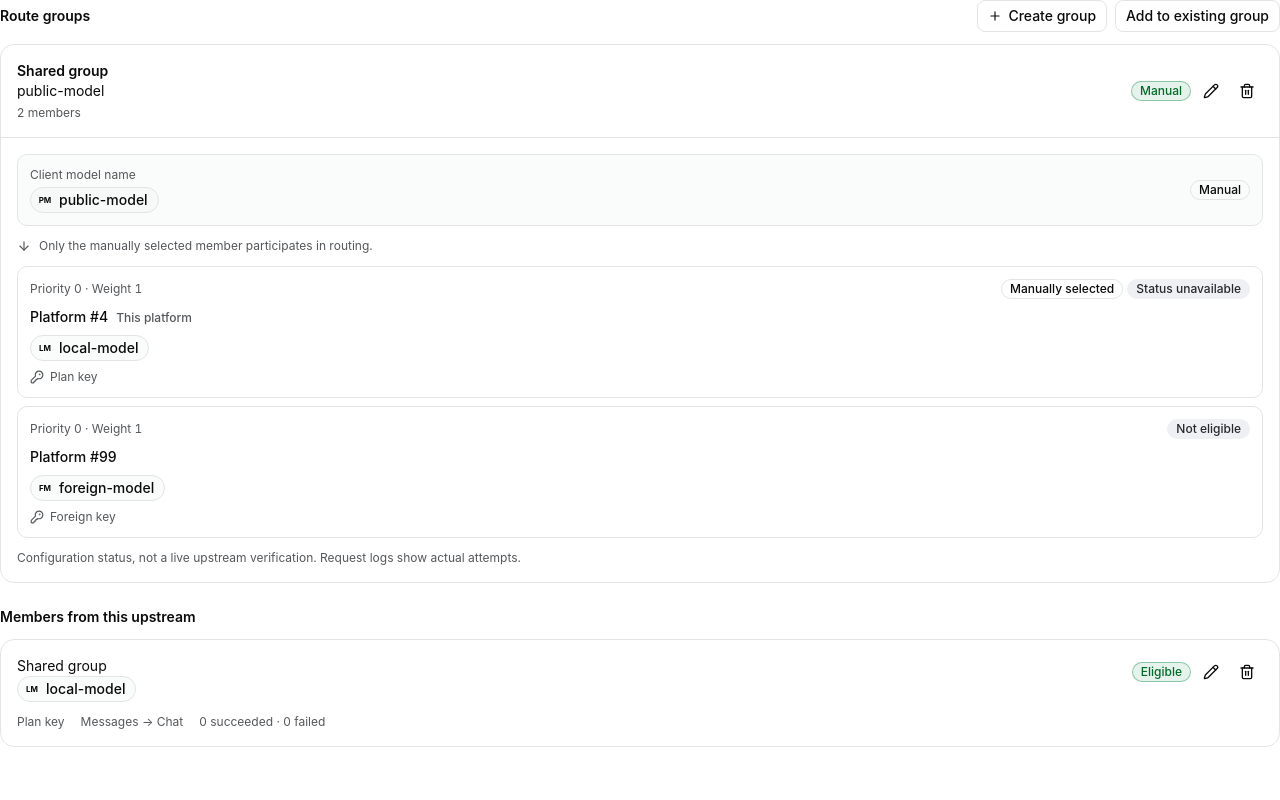
it: upstream route group management › requires explicit cascade review to delete a group
Expected: the button named "Edit group Shared group" is shown, [1195,75,1227,107]
Click the button named "Delete group Shared group". click: coordinates (1247, 91)
box: [1231,75,1263,107]
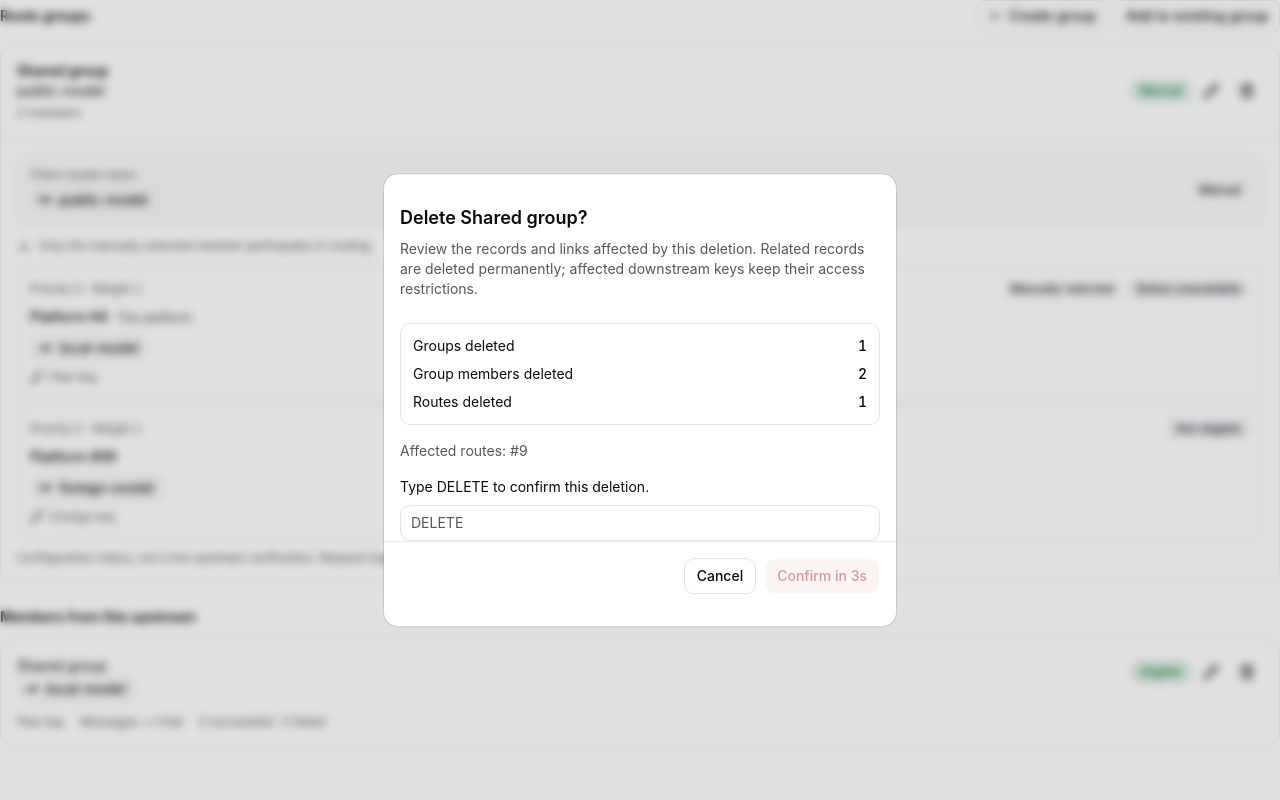
Expected: the dialog is shown, [384,174,896,626]
Expected: the text "Groups deleted" is shown, [413,336,514,356]
Click the button "Cancel". click: coordinates (720, 576)
box: [684,558,756,594]
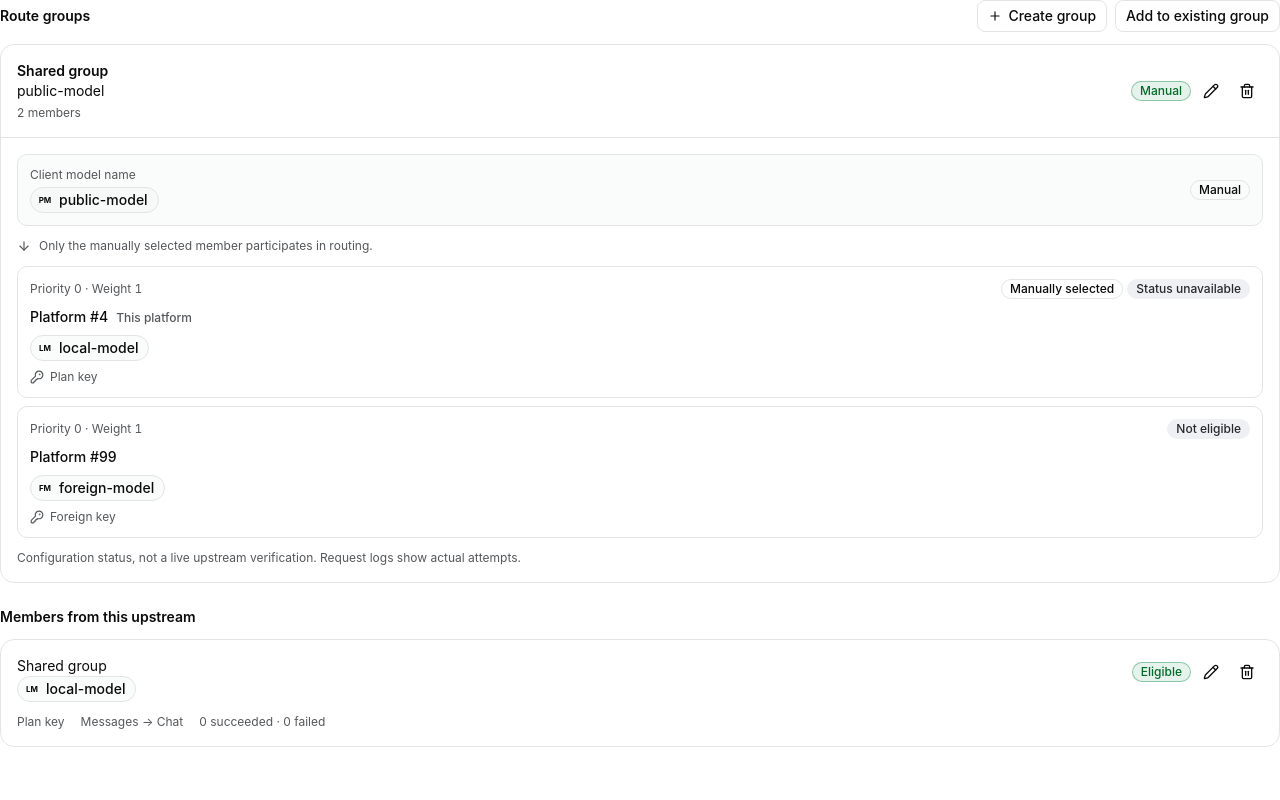
Expected: the dialog is gone
